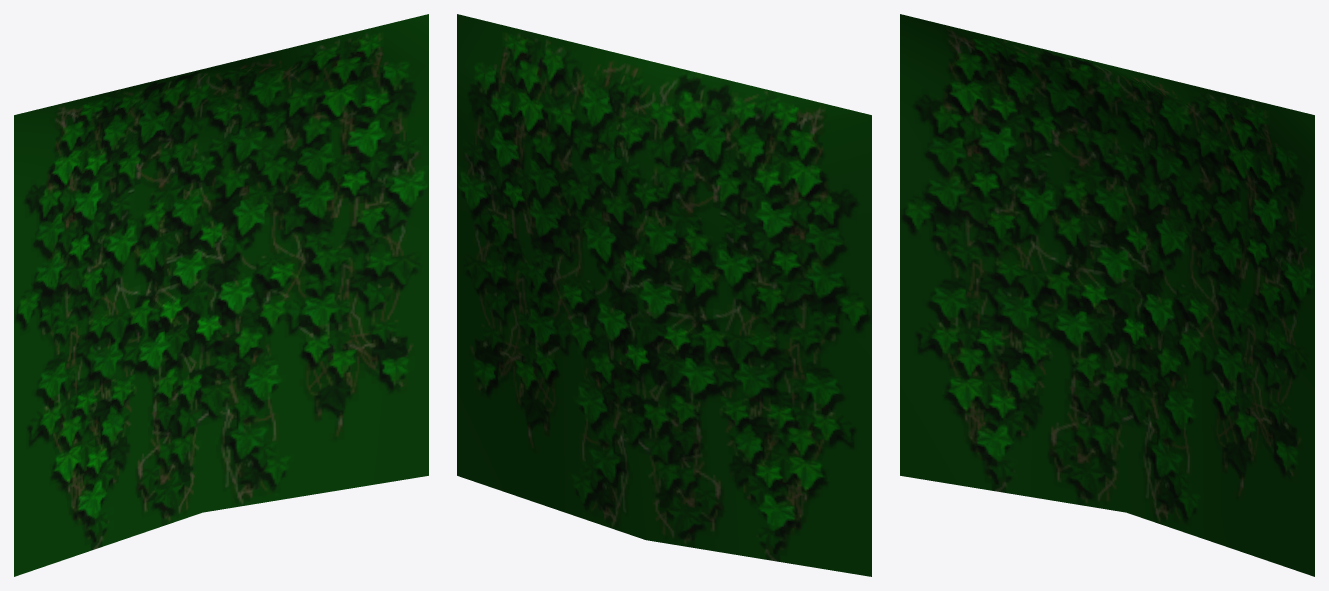
The model's file is INST_HTOWN_IVY.fbx.
The picture shows the model from 3 angles, left to right: view 1: azimuth 30°, elevation 25°; view 2: azimuth 150°, elevation 25°; view 3: azimuth 330°, elevation 25°; orthographic projection.
Parts seen in each view (by area): view 1: INST_HTOWN_IVY; view 2: INST_HTOWN_IVY; view 3: INST_HTOWN_IVY.
Boxes of the visible parts, x1=… form: INST_HTOWN_IVY: x1=14, y1=14, x2=428, y2=576; INST_HTOWN_IVY: x1=457, y1=14, x2=871, y2=576; INST_HTOWN_IVY: x1=900, y1=14, x2=1314, y2=576.
Size of the model in its own units: 28200 by 30000 by 2488.
1 material, 1 textured.
